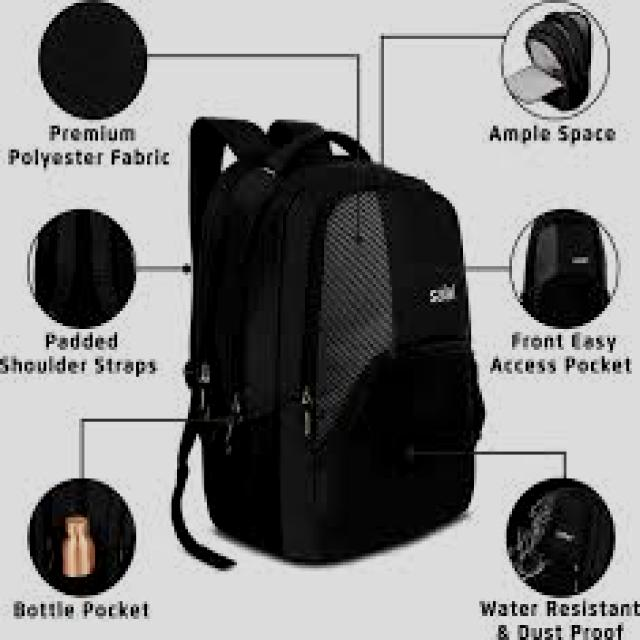backpack: (170, 115, 486, 569)
